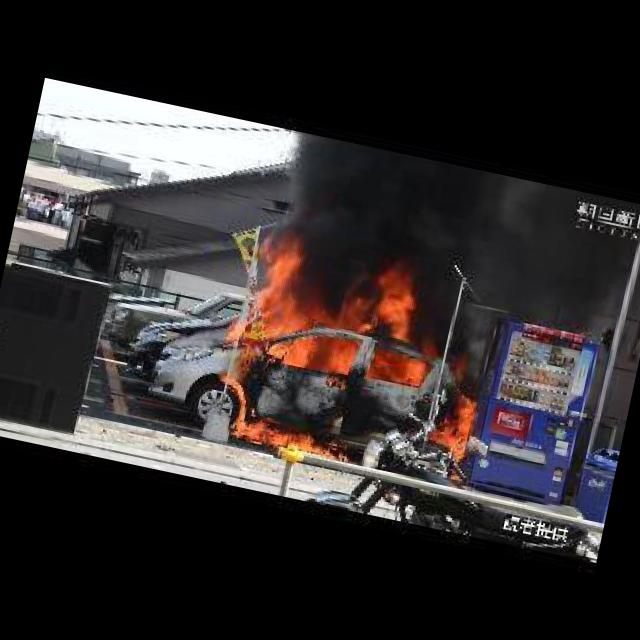Fire: (198, 236, 510, 498)
Smoke: (247, 127, 640, 365)
